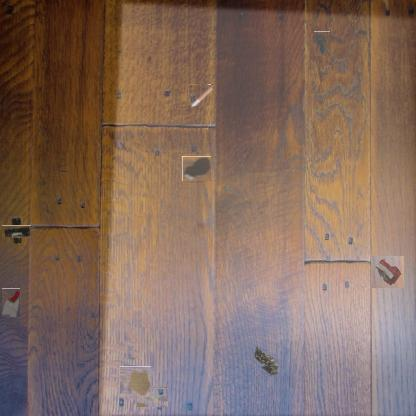dirty: (372, 256, 404, 288), (252, 344, 282, 376), (136, 388, 168, 408), (188, 84, 214, 106), (2, 288, 20, 317), (6, 221, 27, 242), (314, 31, 330, 56)
liquid: (120, 366, 151, 398), (183, 155, 210, 182)
